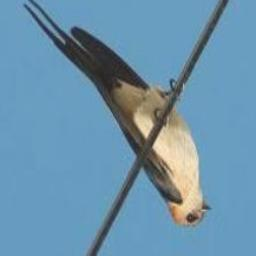Swallow: (22, 0, 212, 228)
